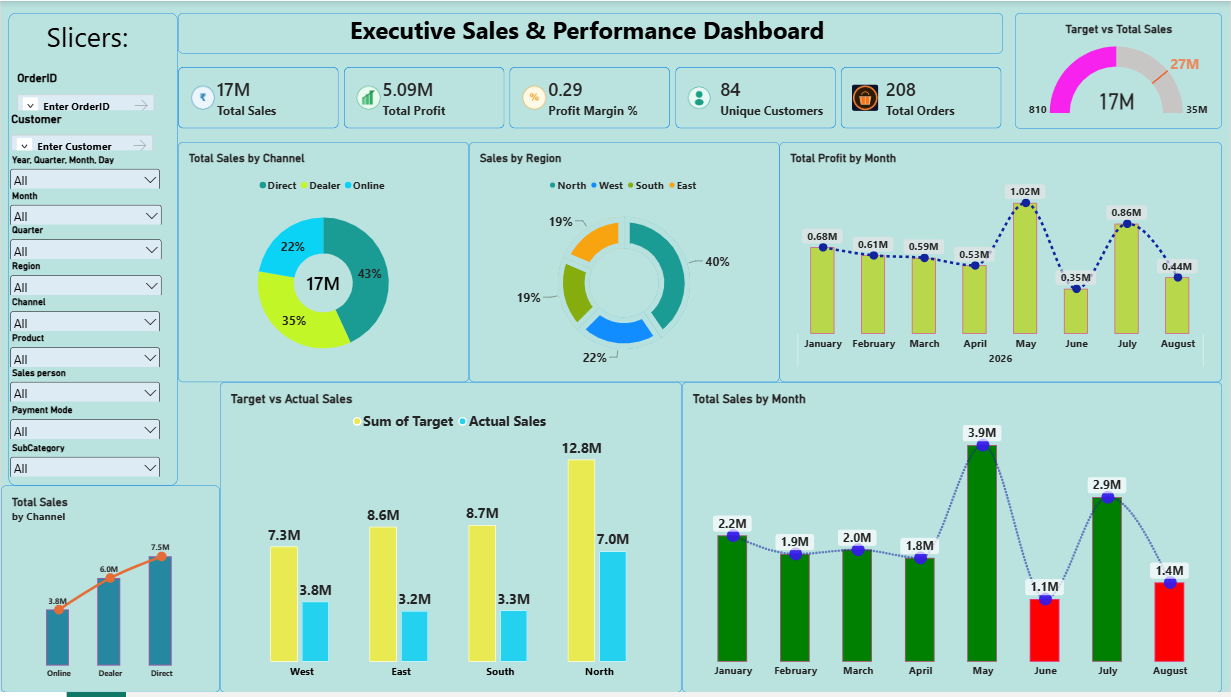

The dashboard page shown, as its layout file describes it:
{"tool":"powerbi","page":{"name":" Page 1","canvas":[1920,1080],"ordinal":0},"visuals":[{"type":"group","id":"g1","title":"Group 1","box":[0,18.8,276.6,738.5],"z":0,"group":"g2"},{"type":"shape","box":[11.7,18.8,264.9,738.5],"z":0,"group":"g1"},{"type":"textbox","box":[276.6,18.8,1289.5,63.3],"z":0},{"type":"group","id":"g2","title":"Group 2","box":[0,18.8,276.6,738.5],"z":1000},{"type":"textbox","box":[14.1,26.4,241.5,84.4],"z":1000,"group":"g2"},{"type":"cardVisual","fields":{"Data":["Sales Data.Total Sales","Sales Data.Total Profit","Sales Data.Profit Margin %","Sales Data.Unique Customers","Sales Data.Total Orders"]},"box":[276.6,103.2,1289.5,96.1],"z":2000},{"type":"slicer","fields":{"Values":["Sales Data.Date.Variation.Date Hierarchy.Year","Sales Data.Date.Variation.Date Hierarchy.Quarter","Sales Data.Date.Variation.Date Hierarchy.Month","Sales Data.Date.Variation.Date Hierarchy.Day"]},"box":[9.2,240.1,243.9,54.1],"z":2000,"group":"g1"},{"type":"donutChart","title":" Sales by Region","fields":{"Category":["Sales Data.Region"],"Y":["Sales Data.Total Sales"]},"box":[731.5,220.4,485.3,375.1],"z":3000},{"type":"slicer","fields":{"Values":["Sales Data.Date.Variation.Date Hierarchy.Quarter"]},"box":[9.2,350,246.3,54.1],"z":3000,"group":"g1"},{"type":"slicer","fields":{"Values":["Sales Data.Date.Variation.Date Hierarchy.Month"]},"box":[9.2,295.9,246.3,54.1],"z":4000,"group":"g1"},{"type":"lineStackedColumnComboChart","title":"Total Sales ","fields":{"Y":["Sales Data.Total Sales"],"Y2":["Sales Data.Total Sales"],"Category":["Sales Data.Channel"]},"box":[0,757.3,342.3,323.5],"z":4000},{"type":"slicer","fields":{"Values":["Sales Data.Region"]},"box":[9.2,405.8,246.3,54.1],"z":5000,"group":"g1"},{"type":"lineStackedColumnComboChart","title":"Total Sales by Month","fields":{"Y":["Sales Data.Total Sales"],"Y2":["Sales Data.Total Sales"],"Category":["Sales Data.Date.Variation.Date Hierarchy.Month"]},"box":[1064.4,595.5,844,485.3],"z":5000},{"type":"lineStackedColumnComboChart","title":"Total Profit by Month","fields":{"Category":["Sales Data.Date.Variation.Date Hierarchy.Year","Sales Data.Date.Variation.Date Hierarchy.Month"],"Y":["Sales Data.Total Profit"],"Y2":["Sales Data.Total Profit"]},"box":[1216.8,220.4,691.6,375.1],"z":6000},{"type":"slicer","fields":{"Values":["Sales Data.Channel"]},"box":[9.2,461.6,243.9,54.1],"z":6000,"group":"g1"},{"type":"donutChart","fields":{"Category":["Sales Data.Channel"],"Y":["Sales Data.Total Sales"]},"box":[276.6,220.4,454.8,375.1],"z":7000},{"type":"slicer","fields":{"Values":["Sales Data.Product"]},"box":[9.2,517.4,243.9,54.1],"z":7000,"group":"g1"},{"type":"slicer","fields":{"Values":["Sales Data.Salesperson"]},"box":[9.2,573.2,243.9,54.1],"z":8000,"group":"g1"},{"type":"clusteredColumnChart","title":"Target vs Actual Sales","fields":{"Category":["Sales Data.Region"],"Y":["Sum(Sales Data.Target)","Sales Data.Actual Sales"]},"box":[342.3,595.5,722.1,485.3],"z":8000},{"type":"gauge","title":" Target vs Total Sales","fields":{"Y":["Sum(Sales Data.SalesAmount)"],"MinValue":["Targets.Minimum Sales"],"TargetValue":["Sum(Targets.MonthlyTarget)"]},"box":[1584.9,18.8,323.5,180.5],"z":9000},{"type":"slicer","fields":{"Values":["Sales Data.PaymentMode"]},"box":[9.2,630.7,243.9,54.1],"z":9000,"group":"g1"},{"type":"slicer","fields":{"Values":["Sales Data.SubCategory"]},"box":[9.2,688.3,243.9,54.1],"z":10000,"group":"g1"},{"type":"textSlicer","fields":{"Values":["Sales Data.OrderID"]},"box":[9.2,97.2,246.3,75],"z":11000,"group":"g1"},{"type":"textSlicer","title":"Customer ","fields":{"Values":["Sales Data.Customer"]},"box":[0,160.4,253.3,74],"z":12000,"group":"g1"}]}

Visuals, with their boxes in screenshot pixels (x1, y1, x2, y2), scaled from the page's 1920x1080 canvas onto the 1231x697 screenshot:
"Group 1" group: (x1=0, y1=12, x2=177, y2=489)
shape: (x1=8, y1=12, x2=177, y2=489)
textbox: (x1=177, y1=12, x2=1004, y2=53)
"Group 2" group: (x1=0, y1=12, x2=177, y2=489)
textbox: (x1=9, y1=17, x2=164, y2=72)
cardVisual - Sales Data.Total Sales x Sales Data.Total Profit: (x1=177, y1=67, x2=1004, y2=129)
slicer - Sales Data.Date.Variation.Date Hierarchy.Year x Sales Data.Date.Variation.Date Hierarchy.Quarter: (x1=6, y1=155, x2=162, y2=190)
" Sales by Region" donutChart: (x1=469, y1=142, x2=780, y2=384)
slicer - Sales Data.Date.Variation.Date Hierarchy.Quarter: (x1=6, y1=226, x2=164, y2=261)
slicer - Sales Data.Date.Variation.Date Hierarchy.Month: (x1=6, y1=191, x2=164, y2=226)
"Total Sales " lineStackedColumnComboChart: (x1=0, y1=489, x2=219, y2=696)
slicer - Sales Data.Region: (x1=6, y1=262, x2=164, y2=297)
"Total Sales by Month" lineStackedColumnComboChart: (x1=682, y1=384, x2=1224, y2=696)
"Total Profit by Month" lineStackedColumnComboChart: (x1=780, y1=142, x2=1224, y2=384)
slicer - Sales Data.Channel: (x1=6, y1=298, x2=162, y2=333)
donutChart - Sales Data.Channel x Sales Data.Total Sales: (x1=177, y1=142, x2=469, y2=384)
slicer - Sales Data.Product: (x1=6, y1=334, x2=162, y2=369)
slicer - Sales Data.Salesperson: (x1=6, y1=370, x2=162, y2=405)
"Target vs Actual Sales" clusteredColumnChart: (x1=219, y1=384, x2=682, y2=696)
" Target vs Total Sales" gauge: (x1=1016, y1=12, x2=1224, y2=129)
slicer - Sales Data.PaymentMode: (x1=6, y1=407, x2=162, y2=442)
slicer - Sales Data.SubCategory: (x1=6, y1=444, x2=162, y2=479)
textSlicer - Sales Data.OrderID: (x1=6, y1=63, x2=164, y2=111)
"Customer " textSlicer: (x1=0, y1=104, x2=162, y2=151)
